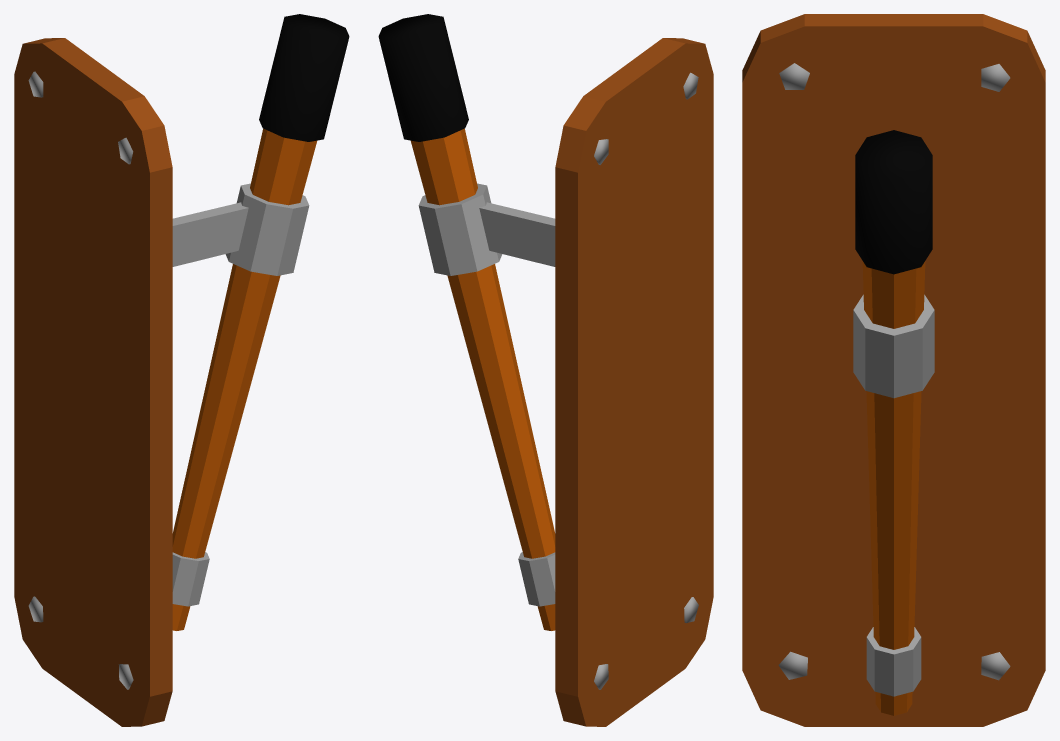
Rendered from WallTorch.fbx.
3 renders of one model, left to right at view 1: azimuth 30°, elevation 25°; view 2: azimuth 150°, elevation 25°; view 3: azimuth 270°, elevation 25°, orthographic. The views are drawn at different scales.
Visible parts, largest first — view 1: WallTorch; view 2: WallTorch; view 3: WallTorch.
Boxes of the visible parts, left/top/right/bottom form: WallTorch: left=14, top=14, right=349, bottom=726; WallTorch: left=378, top=14, right=713, bottom=726; WallTorch: left=742, top=14, right=1045, bottom=726.
Bounding box in the file's own units: 160 × 361 × 142.
